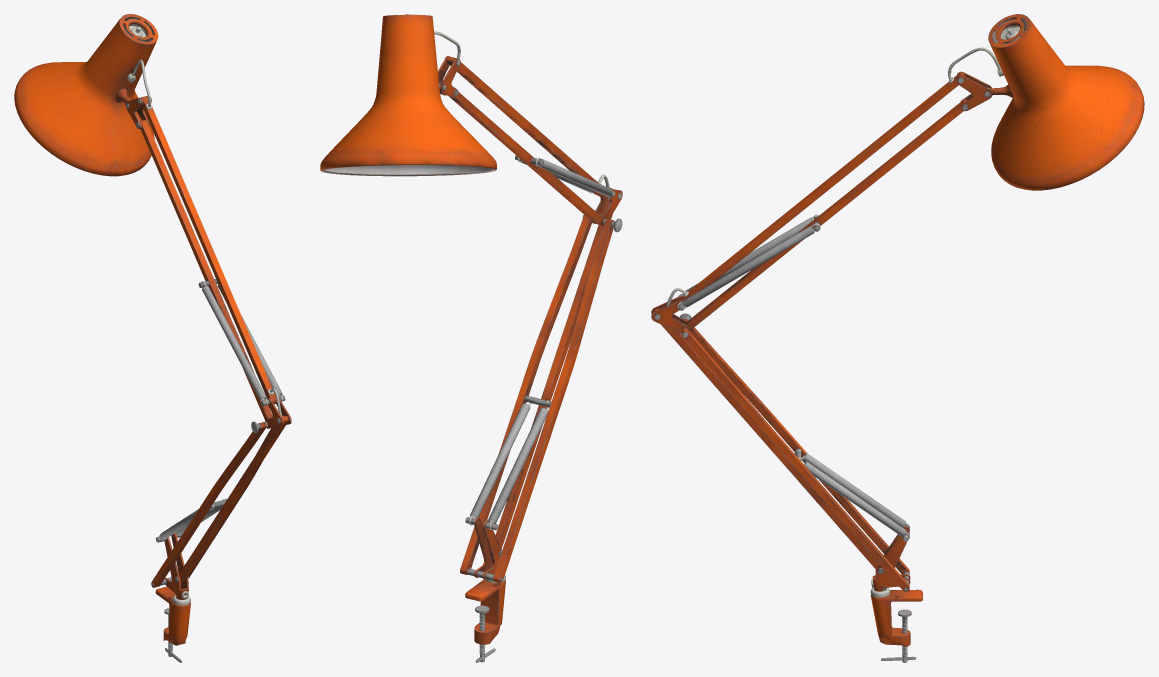
File: desk_lamp_arm_01.glb
The picture shows the model from 3 angles, left to right: view 1: azimuth 30°, elevation 25°; view 2: azimuth 150°, elevation 25°; view 3: azimuth 270°, elevation 25°; orthographic projection. The views are drawn at different scales.
Parts seen in each view (by area): view 1: desk_lamp_arm_01; view 2: desk_lamp_arm_01; view 3: desk_lamp_arm_01.
Part boxes in pixels (box(x1,y1,x2,y2)): desk_lamp_arm_01: box(14, 14, 291, 662); desk_lamp_arm_01: box(320, 14, 622, 662); desk_lamp_arm_01: box(651, 14, 1144, 662).
Size of the model in its own units: 0.2017 by 0.8926 by 0.6139.
Materials: 2 (2 with a texture image).
